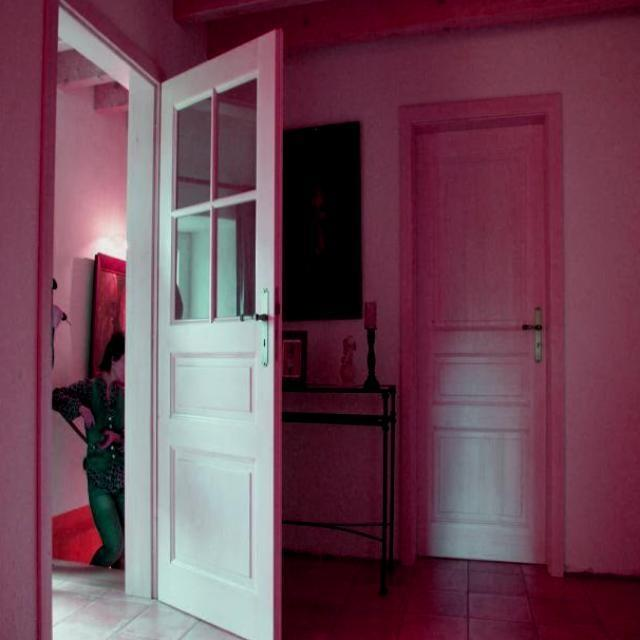door: (153, 27, 282, 638), (399, 94, 560, 567)
